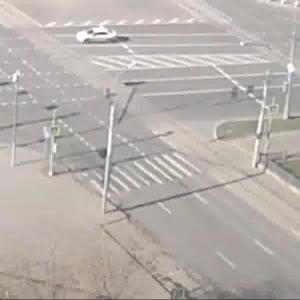car: (78, 25, 116, 46)
